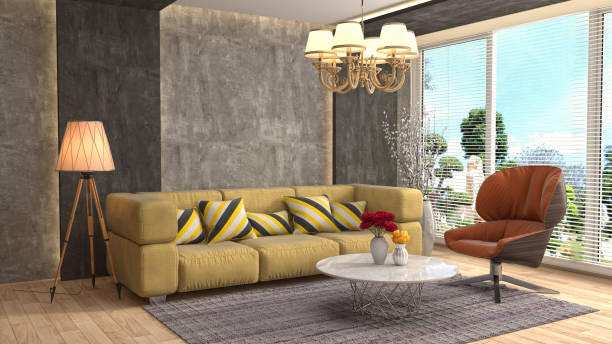chair: (442, 163, 568, 305)
floor lamp: (46, 117, 121, 304)
flower vase: (358, 208, 397, 266), (391, 227, 411, 264)
sofa: (97, 184, 429, 304)
table: (315, 251, 457, 322)
